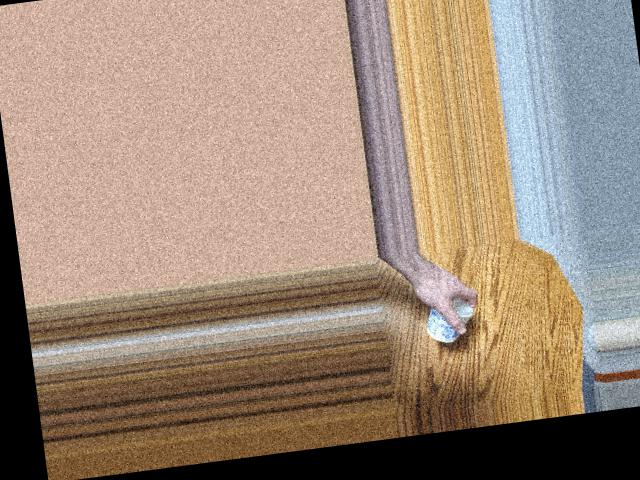cotage: (420, 293, 475, 344)
